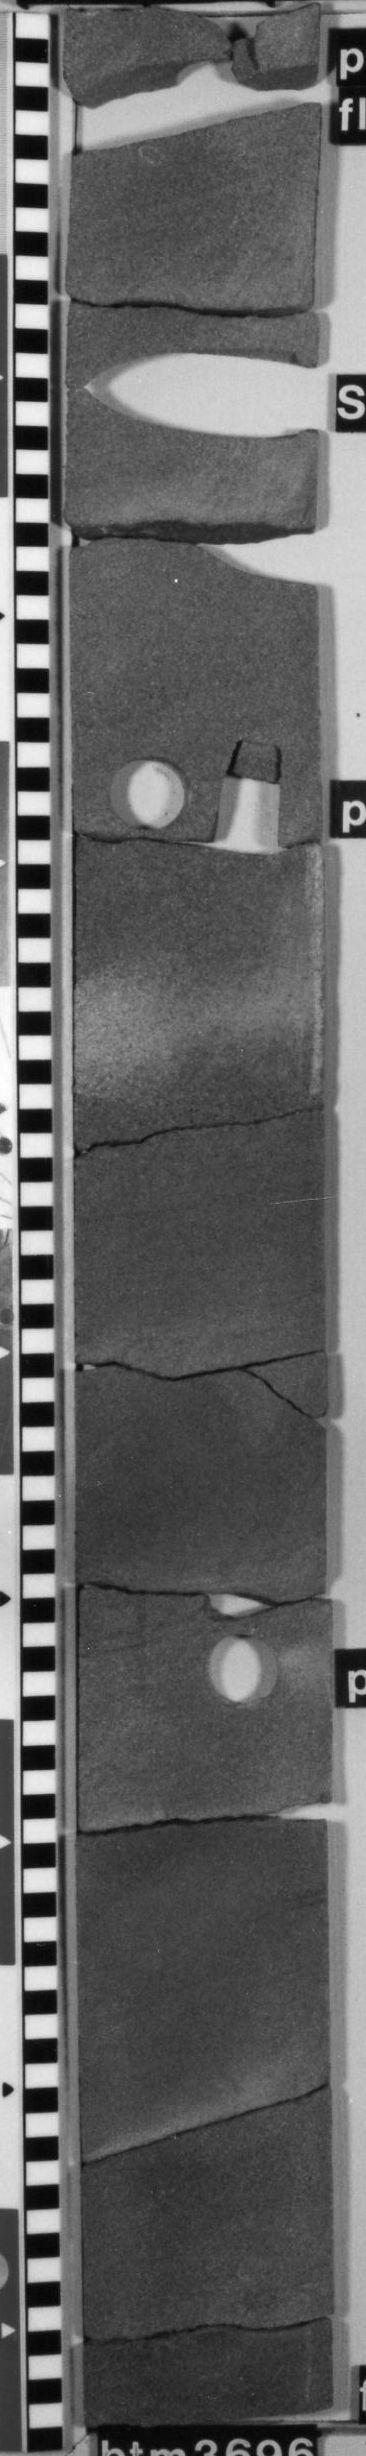hplug: (67, 52, 319, 160), (103, 749, 199, 847), (196, 1627, 299, 1714)
scal: (74, 338, 325, 451)
vplug: (199, 735, 308, 861), (199, 1577, 289, 1627)
